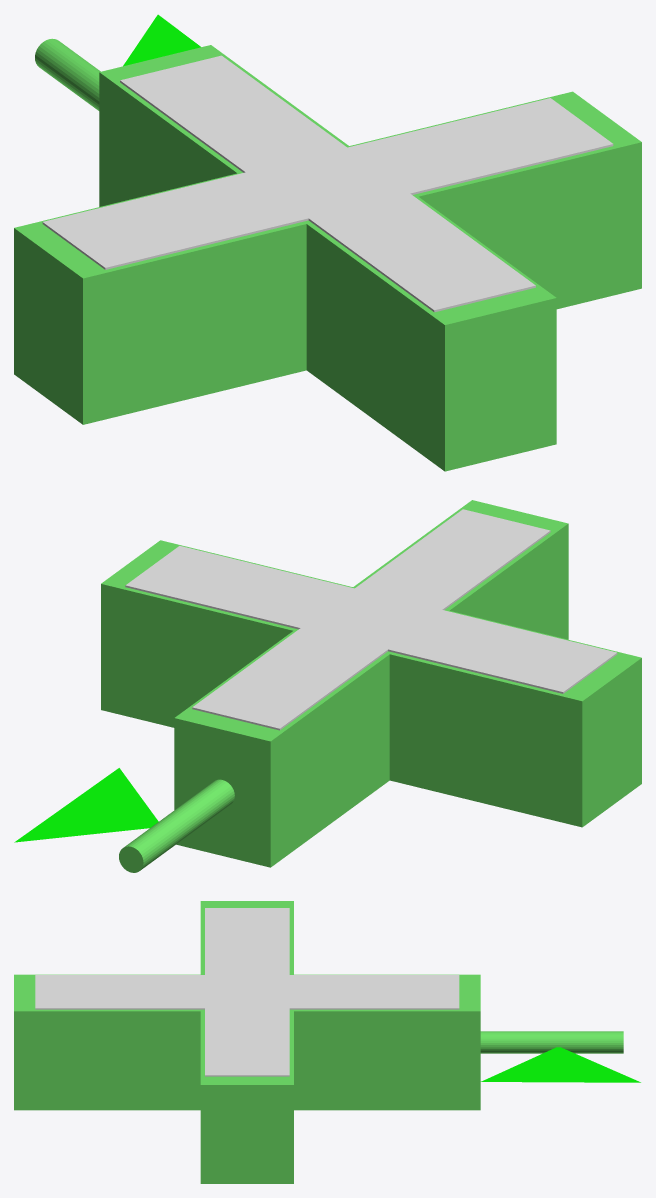
The model's file is 回復の実.fbx.
The picture shows the model from 3 angles, top to bottom: view 1: azimuth 30°, elevation 25°; view 2: azimuth 150°, elevation 25°; view 3: azimuth 270°, elevation 25°; orthographic projection. The views are drawn at different scales.
Visible parts, largest first — view 1: 立方体.002; view 2: 立方体.002; view 3: 立方体.002.
Part boxes in pixels (left/top/right/bottom): 立方体.002: left=14, top=14, right=641, bottom=471; 立方体.002: left=14, top=500, right=641, bottom=872; 立方体.002: left=14, top=901, right=640, bottom=1183.
Bounding box in the file's own units: 176 × 45.25 × 253.
